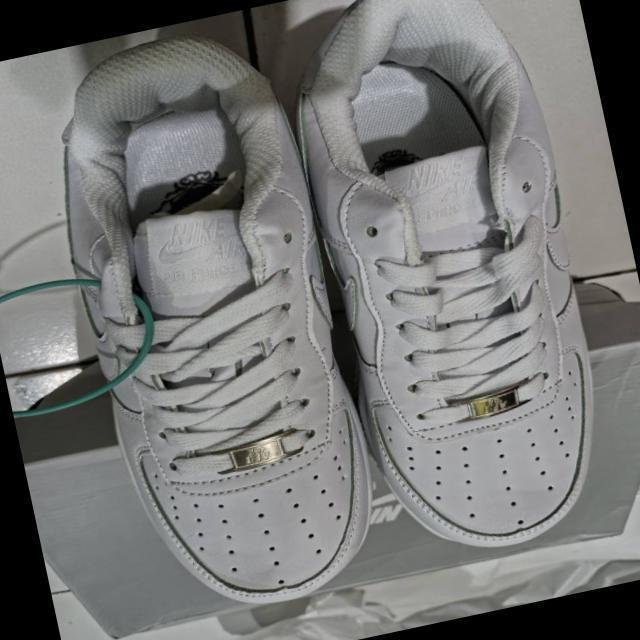nike fake air force: (22, 15, 397, 634), (267, 0, 640, 575)
